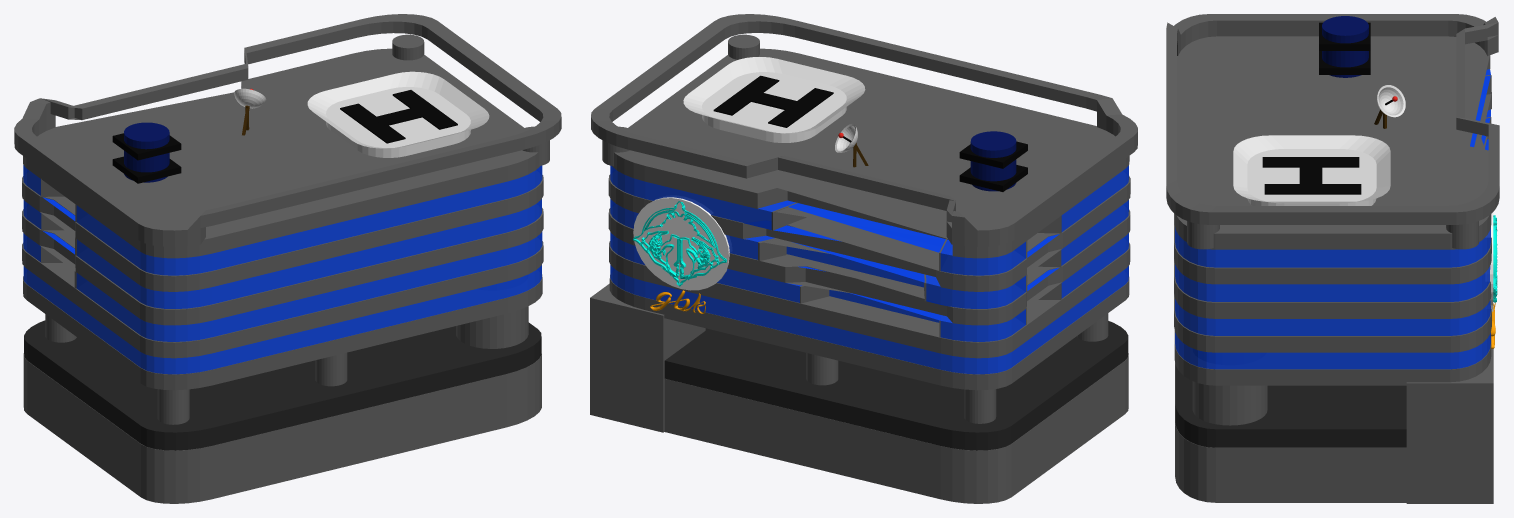
Rendered from gbk.fbx.
3 renders of one model, left to right at view 1: azimuth 30°, elevation 25°; view 2: azimuth 150°, elevation 25°; view 3: azimuth 270°, elevation 25°, orthographic. The views are drawn at different scales.
Parts seen in each view (by area): view 1: Cube.010, Cube, Cube.001, Cube.012, Cube.005, Cube.006, Cube.009, Cube.007, Cube.008, Cube.002, Cube.003, Cube.016 (+10 smaller); view 2: Cube.010, Cube, Cube.001, Cube.012, Cube.005, Cube.011, Cube.006, Cube.009, Cube.016, Cube.003, Cube.002, Cube.007 (+15 smaller); view 3: Cube.010, Cube.012, Cube, Cube.001, Cube.011, Cube.016, Cube.007, Cube.006, Cube.008, Cube.003, Cube.009, Cube.005 (+13 smaller).
Part boxes in pixels (x1,y1,x2,y2): Cube.010: (23, 48, 539, 258); Cube: (23, 353, 541, 503); Cube.001: (24, 320, 541, 450); Cube.012: (14, 14, 561, 246); Cube.005: (22, 241, 543, 358); Cube.006: (22, 175, 543, 291); Cube.009: (22, 208, 543, 325); Cube.007: (23, 165, 542, 275); Cube.008: (23, 199, 541, 308); Cube.002: (23, 274, 542, 390); Cube.003: (23, 265, 541, 374); Cube.016: (307, 71, 489, 157); Cube.010: (612, 48, 1129, 258); Cube: (664, 353, 1128, 503); Cube.001: (664, 321, 1128, 450); Cube.012: (591, 14, 1137, 246); Cube.005: (609, 241, 1130, 358); Cube.011: (590, 283, 705, 432); Cube.006: (608, 174, 1130, 291); Cube.009: (608, 208, 1130, 325); Cube.016: (683, 57, 865, 142); Cube.003: (610, 264, 1128, 374); Cube.002: (609, 275, 1129, 390); Cube.007: (610, 165, 1128, 275); Cube.010: (1174, 36, 1491, 249); Cube.012: (1166, 14, 1499, 224); Cube: (1175, 362, 1406, 502); Cube.001: (1175, 364, 1406, 447); Cube.011: (1406, 349, 1493, 503); Cube.016: (1233, 135, 1390, 205); Cube.007: (1175, 69, 1490, 267); Cube.006: (1174, 92, 1491, 284); Cube.008: (1175, 109, 1490, 301); Cube.003: (1175, 333, 1490, 369); Cube.009: (1174, 136, 1491, 318); Cube.005: (1174, 294, 1491, 352).
Bounding box in the file's own units: 4786 × 3298 × 3195.
